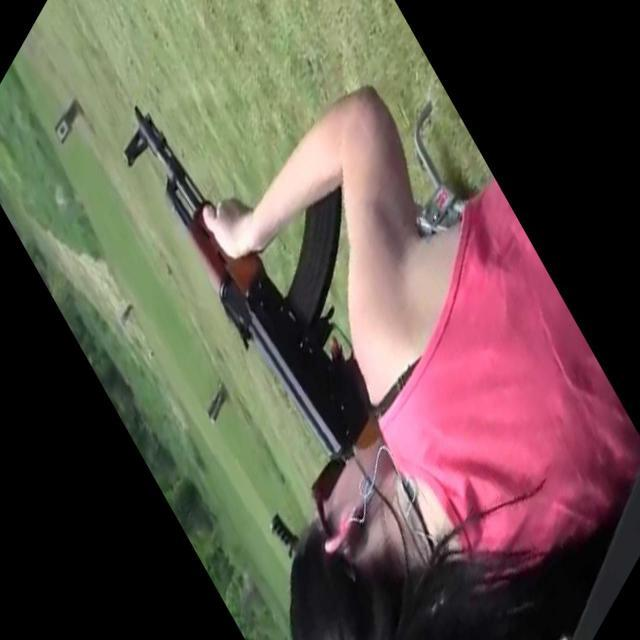weapon: (123, 104, 382, 448)
